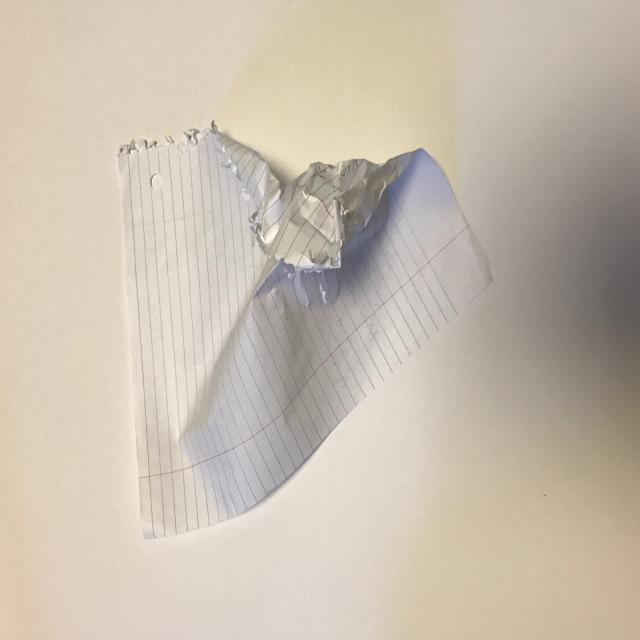paper: (85, 54, 533, 575)
